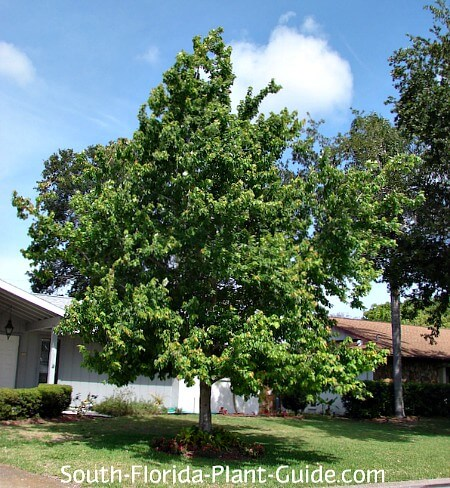tree: (60, 24, 364, 437)
